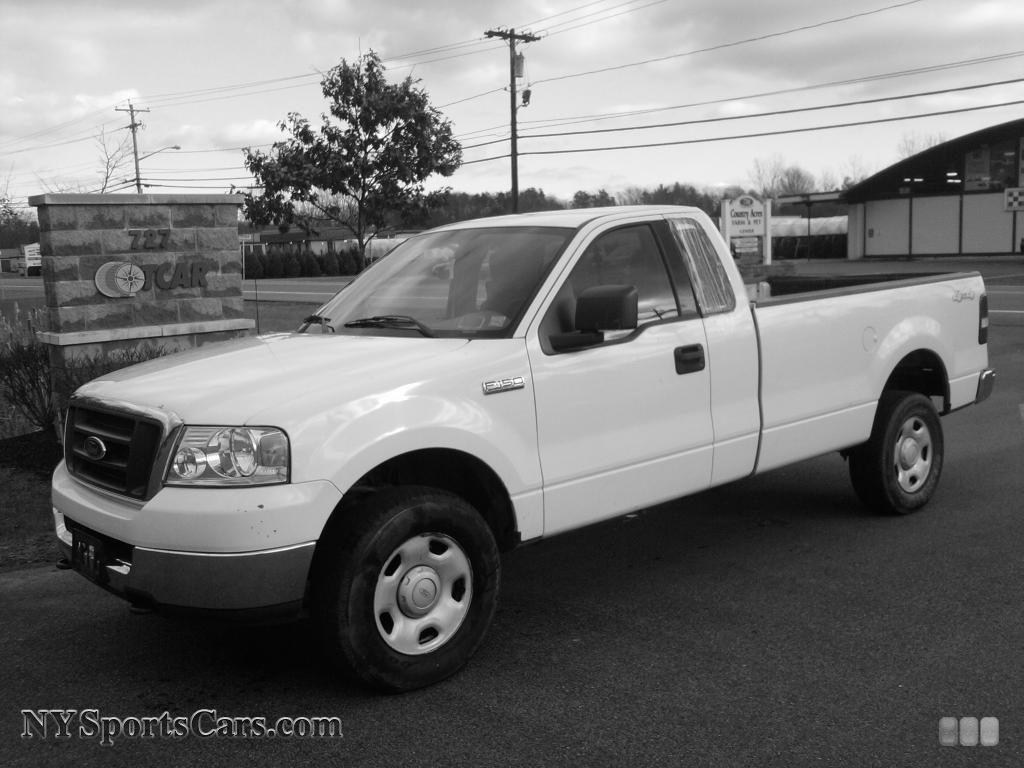car: (49, 203, 992, 692)
